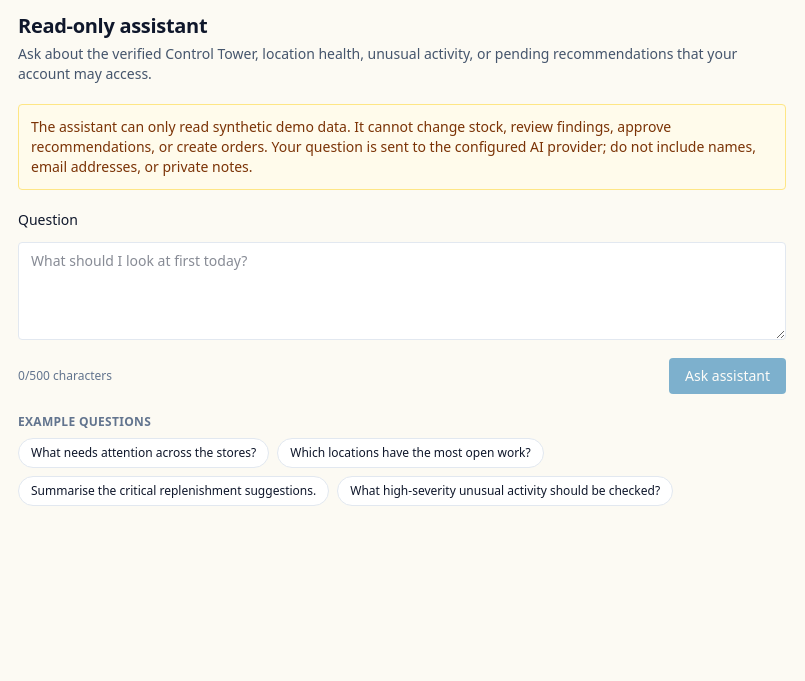
read-only assistant › sends one question and shows provider, claims and permission-checked tools
Type "What needs attention?" into the text box labelled "Question" at (402, 291), box [18,242,786,340]
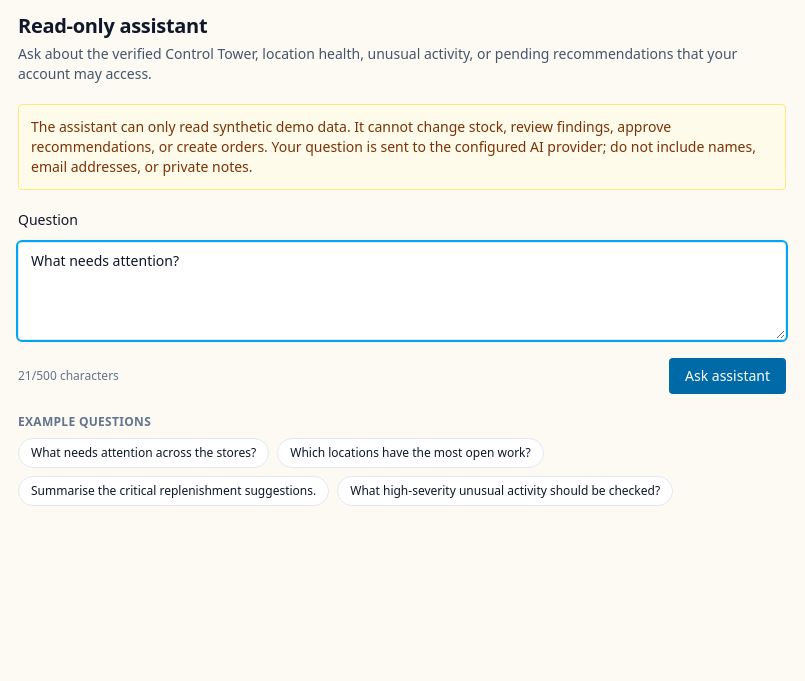
Click the button "Ask assistant" at (728, 376), box [669,358,786,394]
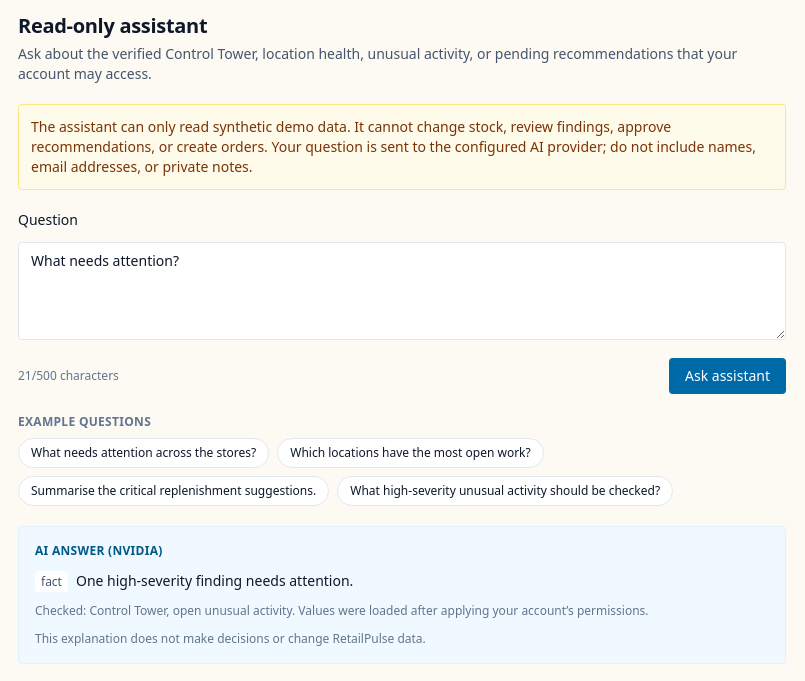
Expected: the text "AI answer (NVIDIA)" is shown, [35,542,163,559]
Expected: the text "One high-severity finding" is shown, [76,571,353,590]
Expected: the text "Control Tower, open unusual activity" is shown, [89,602,292,619]
